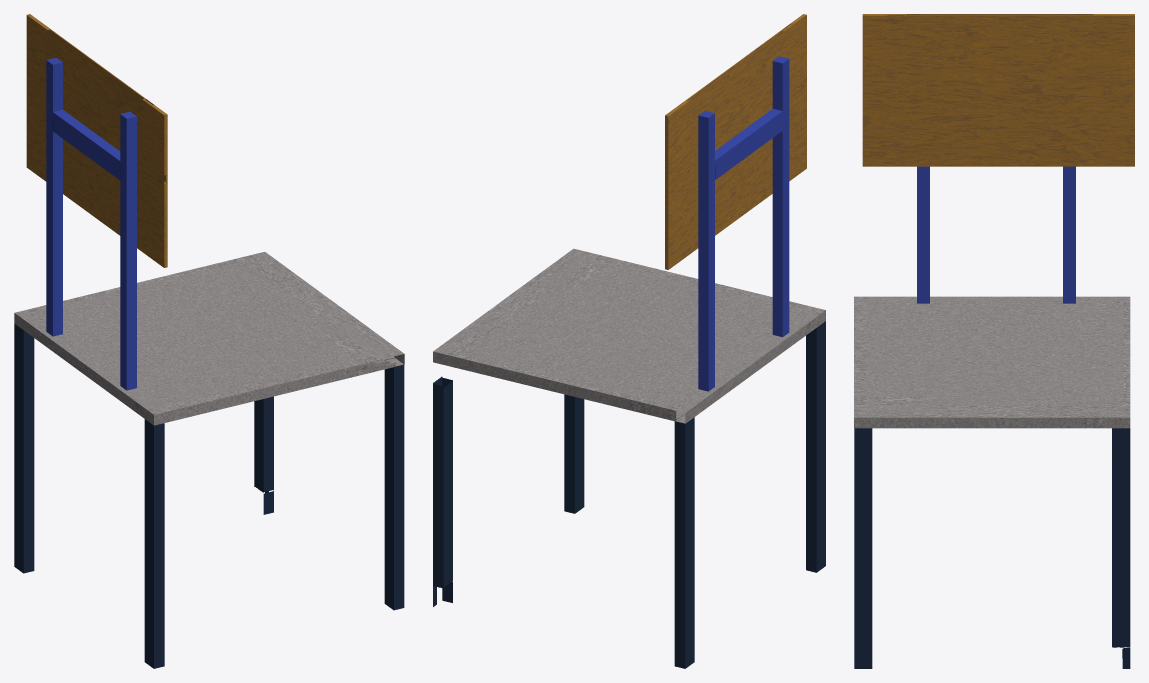
Rendered from Krzesło_zwykłe.fbx.
3 renders of one model, left to right at view 1: azimuth 30°, elevation 25°; view 2: azimuth 150°, elevation 25°; view 3: azimuth 270°, elevation 25°, orthographic.
Visible parts, largest first — view 1: Siedzisko, Oparcie, Ramie, Nogi 1, Nogi 2; view 2: Siedzisko, Oparcie, Ramie, Nogi 2, Nogi 1; view 3: Oparcie, Siedzisko, Nogi 1, Nogi 2, Ramie.
Part boxes in pixels (x1=…): Siedzisko: x1=14, y1=251, x2=404, y2=425; Oparcie: x1=26, y1=14, x2=167, y2=267; Ramie: x1=46, y1=57, x2=136, y2=390; Nogi 1: x1=144, y1=357, x2=404, y2=668; Nogi 2: x1=14, y1=323, x2=273, y2=573; Siedzisko: x1=433, y1=248, x2=825, y2=423; Oparcie: x1=665, y1=14, x2=806, y2=269; Ramie: x1=698, y1=56, x2=789, y2=391; Nogi 2: x1=433, y1=376, x2=694, y2=668; Nogi 1: x1=564, y1=321, x2=825, y2=572; Oparcie: x1=862, y1=14, x2=1134, y2=166; Siedzisko: x1=854, y1=296, x2=1130, y2=428; Nogi 1: x1=854, y1=428, x2=872, y2=668; Nogi 2: x1=1112, y1=428, x2=1130, y2=668; Ramie: x1=917, y1=166, x2=1075, y2=303.
Bounding box in the file's own units: 621 × 1296 × 610.
